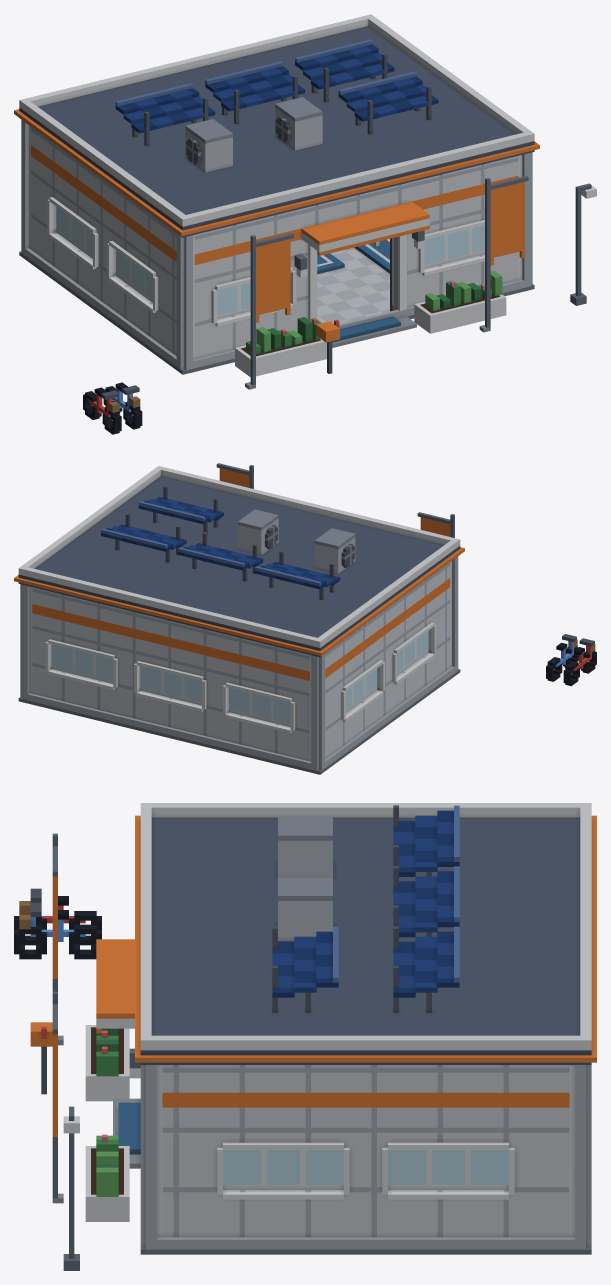
The picture shows the model from 3 angles, top to bottom: view 1: azimuth 30°, elevation 25°; view 2: azimuth 150°, elevation 25°; view 3: azimuth 270°, elevation 25°; orthographic projection. The views are drawn at different scales.
Visible parts, largest first — view 1: CutRoof, Base, CutPZ, CutNX, CutNZ; view 2: CutRoof, CutNZ, Base, CutNX, CutPZ; view 3: CutRoof, CutPX, Base, CutPZ, CutNZ.
Boxes of the visible parts, <box> form: CutRoof: <box>14,14,539,237</box>; Base: <box>19,176,596,434</box>; CutPZ: <box>176,152,532,337</box>; CutNX: <box>31,127,176,330</box>; CutNZ: <box>21,120,30,223</box>; CutRoof: <box>14,466,464,657</box>; CutNZ: <box>20,584,325,742</box>; Base: <box>18,463,596,774</box>; CutNX: <box>325,562,450,736</box>; CutPZ: <box>450,556,458,645</box>; CutRoof: <box>135,803,596,1064</box>; CutPX: <box>162,1065,569,1202</box>; Base: <box>14,833,591,1270</box>; CutPZ: <box>96,939,162,1204</box>; CutNZ: <box>569,1065,591,1204</box>.
Bounding box in the file's own units: 14.6 × 5 × 10.6.
